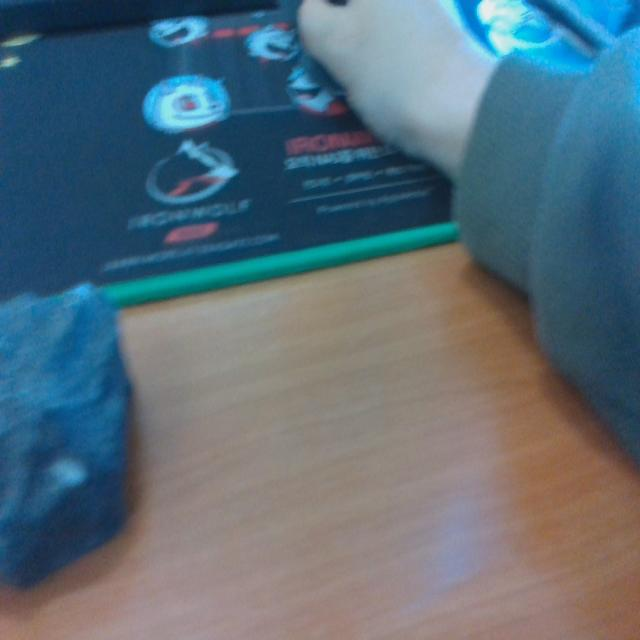stone: (0, 274, 144, 600)
